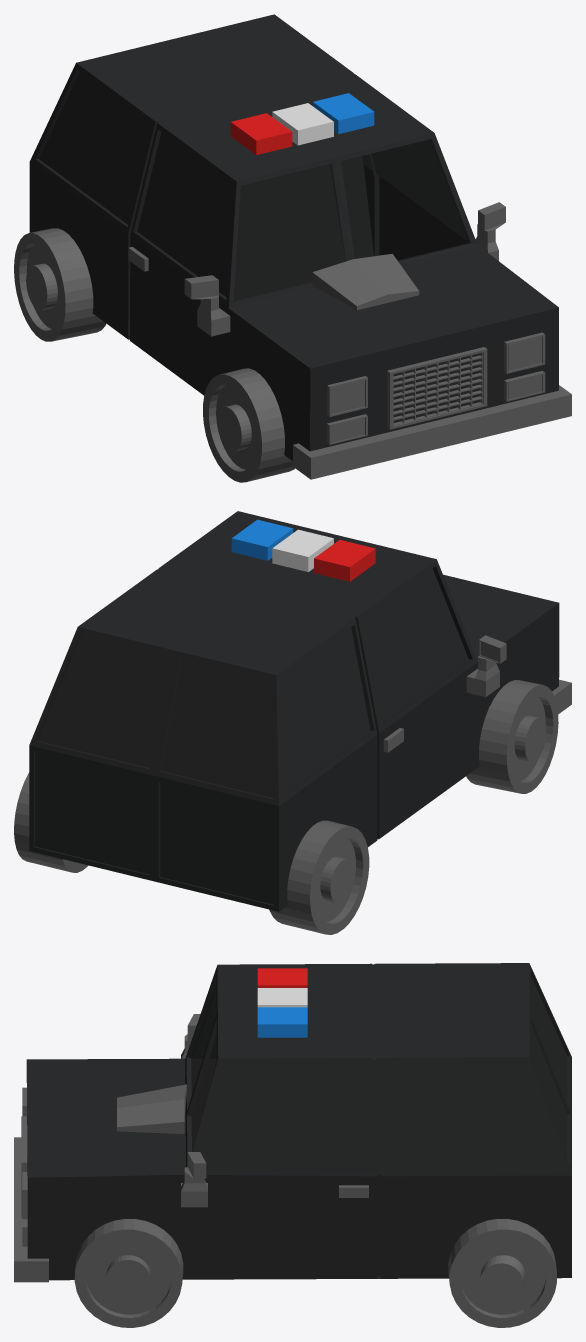
The model's file is carro.fbx.
3 views of the same model, one above another, from view 1: azimuth 30°, elevation 25°; view 2: azimuth 150°, elevation 25°; view 3: azimuth 270°, elevation 25° (orthographic). The views are drawn at different scales.
Parts seen in each view (by area): view 1: Cube.012; view 2: Cube.012; view 3: Cube.012.
Part boxes in pixels (x1,y1,x2,y2): Cube.012: (14,14,571,482); Cube.012: (14,511,571,934); Cube.012: (14,963,571,1327).
Size of the model in its own units: 376 by 306 by 594.
